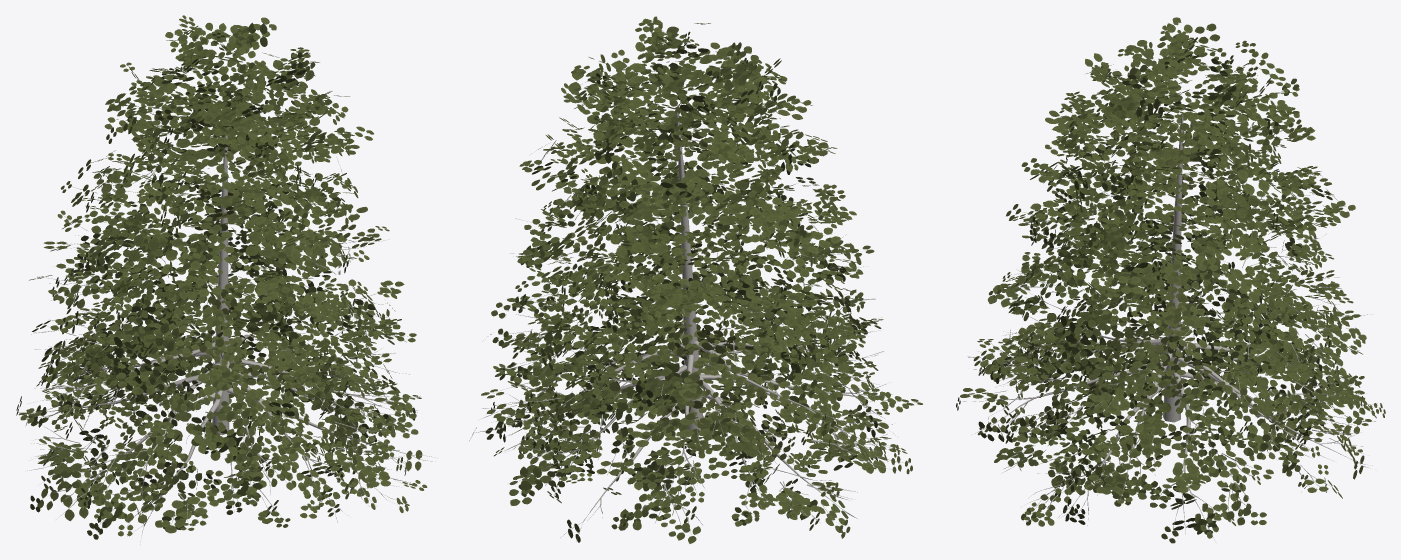
3 views of the same model, side by side, from view 1: azimuth 30°, elevation 25°; view 2: azimuth 150°, elevation 25°; view 3: azimuth 270°, elevation 25° (orthographic). The views are drawn at different scales.
Visible parts, largest first — view 1: NT_PinOak_0076; view 2: NT_PinOak_0076; view 3: NT_PinOak_0076.
Boxes of the visible parts, x1,y1,x2,y2 form: NT_PinOak_0076: (16, 15, 437, 544); NT_PinOak_0076: (469, 16, 922, 543); NT_PinOak_0076: (956, 17, 1385, 543).
Size of the model in its own units: 18.42 by 20.79 by 18.29.
2 materials, 1 textured.
